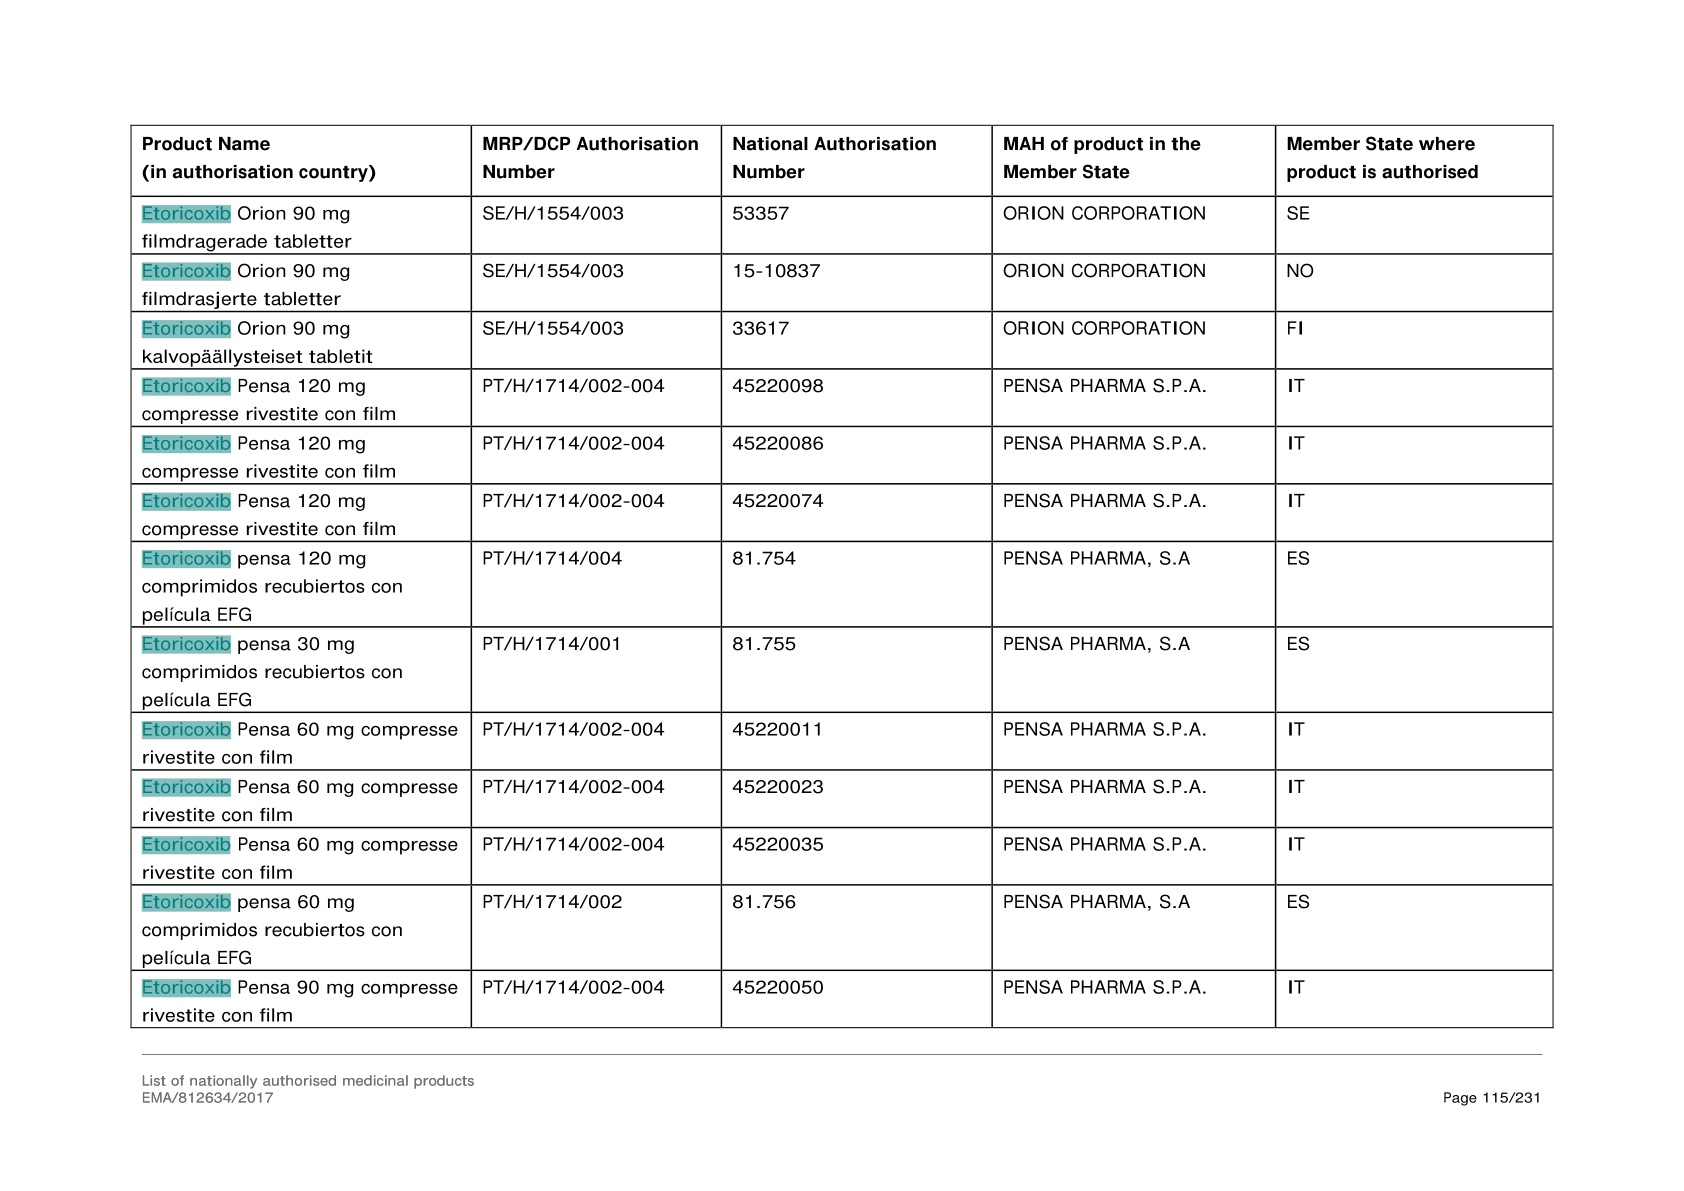full_lined: (130, 122, 1554, 1029)
